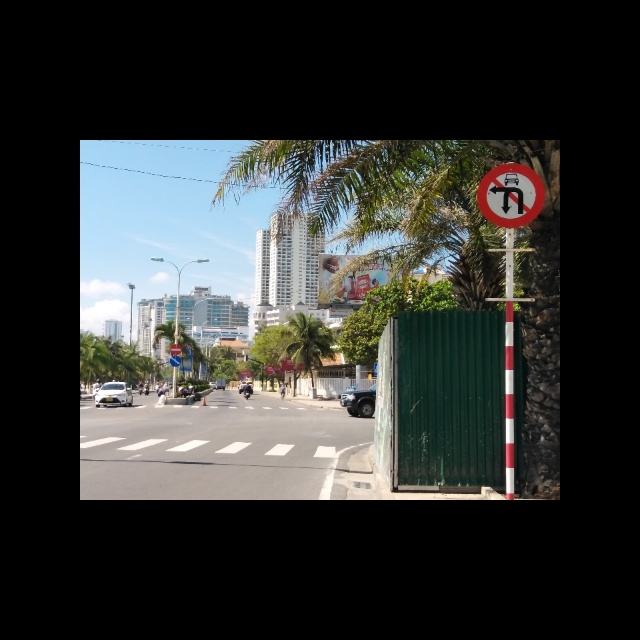Cấm xe ô tô quay đầu và rẽ trái: (475, 161, 545, 229)
